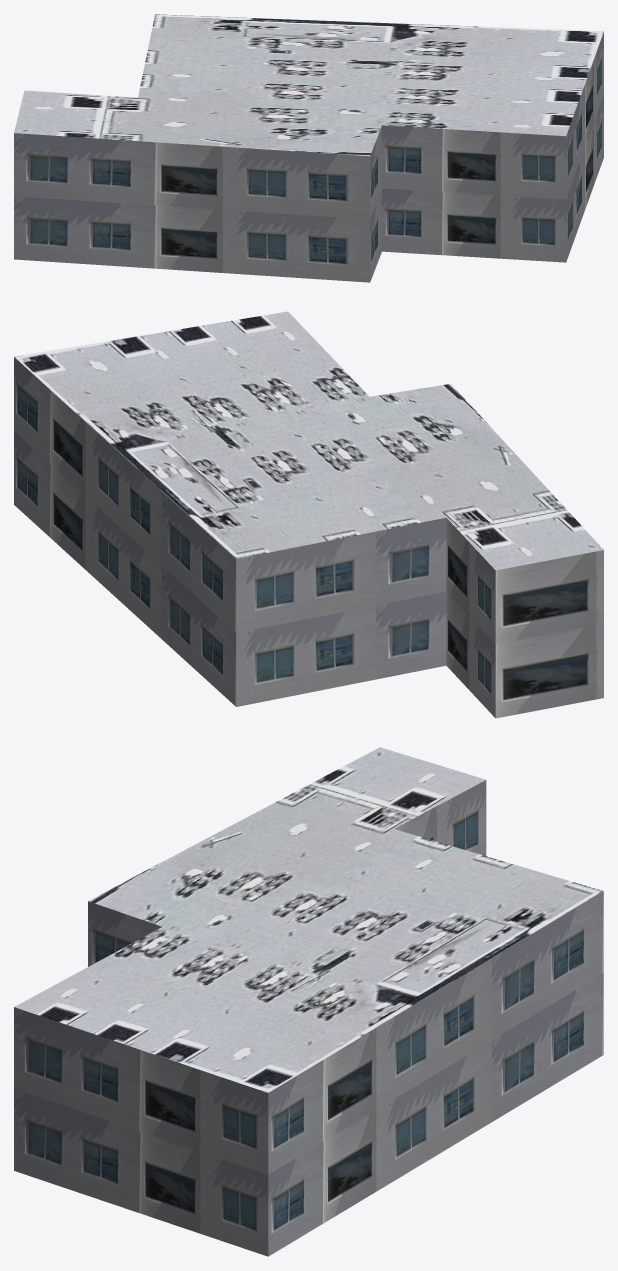
File: ResTex__2910.fbx
The picture shows the model from 3 angles, top to bottom: view 1: azimuth 30°, elevation 25°; view 2: azimuth 150°, elevation 25°; view 3: azimuth 270°, elevation 25°; orthographic projection. The views are drawn at different scales.
Parts seen in each view (by area): view 1: CityEngineMaterial_10_m, CityEngineMaterial_m; view 2: CityEngineMaterial_10_m, CityEngineMaterial_m; view 3: CityEngineMaterial_10_m, CityEngineMaterial_m.
Part boxes in pixels (bbox=[...]): CityEngineMaterial_10_m: bbox=[14, 32, 603, 282]; CityEngineMaterial_m: bbox=[14, 14, 603, 156]; CityEngineMaterial_10_m: bbox=[14, 357, 603, 718]; CityEngineMaterial_m: bbox=[14, 311, 603, 570]; CityEngineMaterial_10_m: bbox=[14, 780, 603, 1256]; CityEngineMaterial_m: bbox=[14, 747, 603, 1092].
Bounding box in the file's own units: 27.17 × 6 × 19.59.
2 materials, 2 textured.
